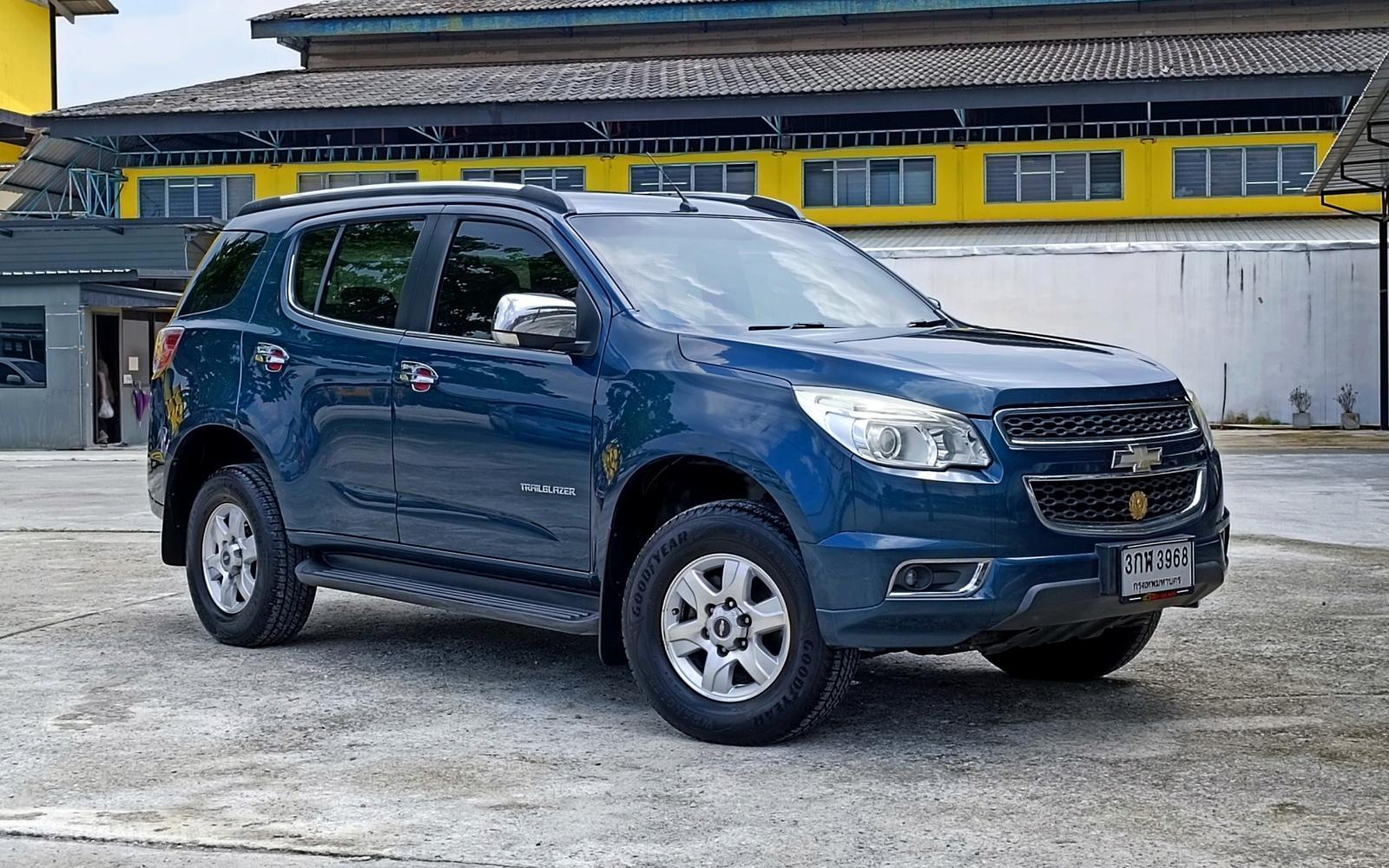license-plate: (1112, 533, 1201, 612)
